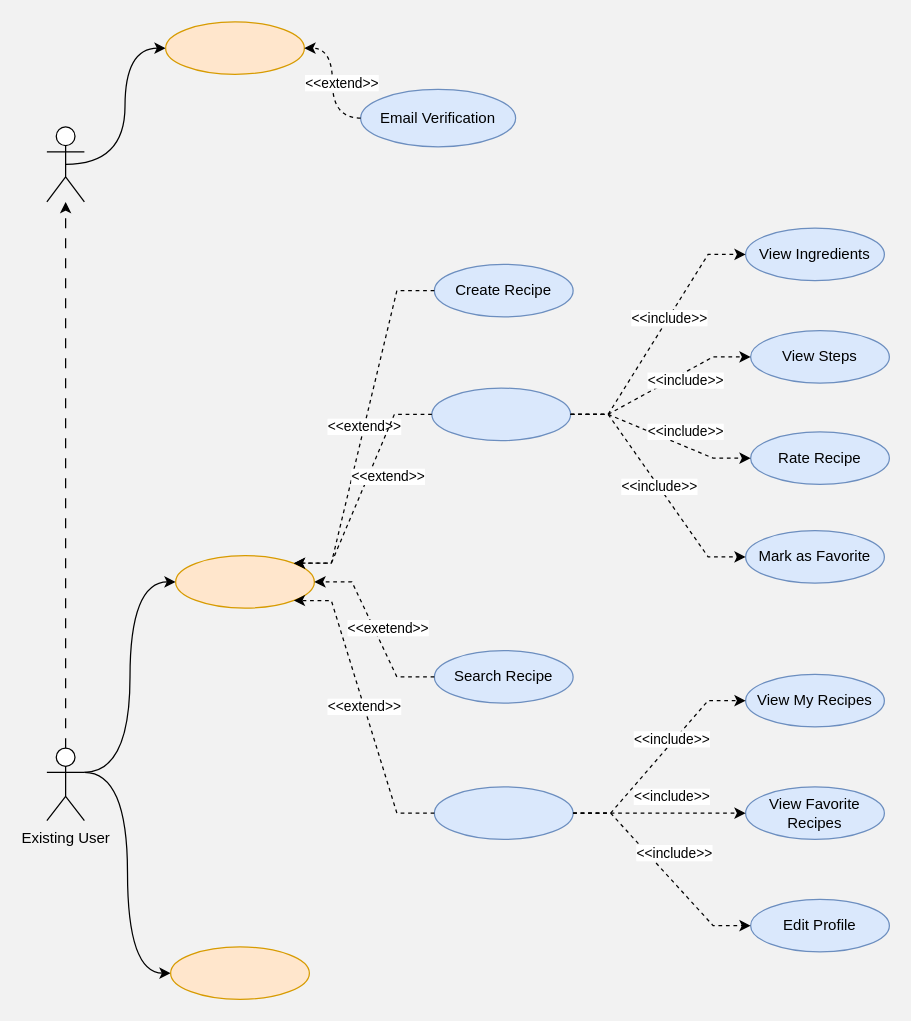
Some shapes in this 911 by 1021 pixel diagram are drawn without their labels. The centre of each missing label's shape, as x and y in pixels:
Log In: the point at 244,581
Log Out: the point at 239,972
New User: the point at 65,164
Register: the point at 234,47
View Profile: the point at 503,812
View Recipe: the point at 501,414
